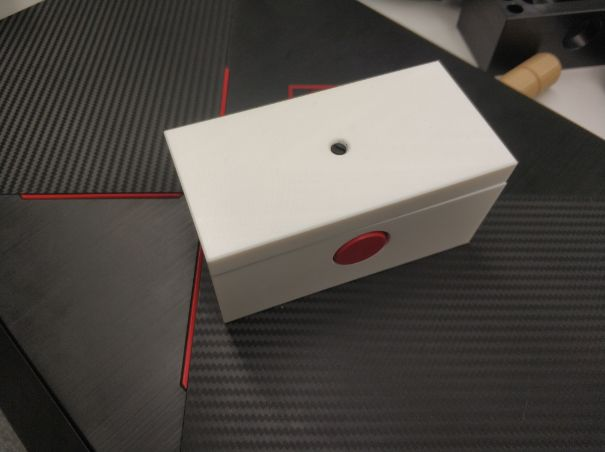white+white+red: (158, 57, 523, 327)
